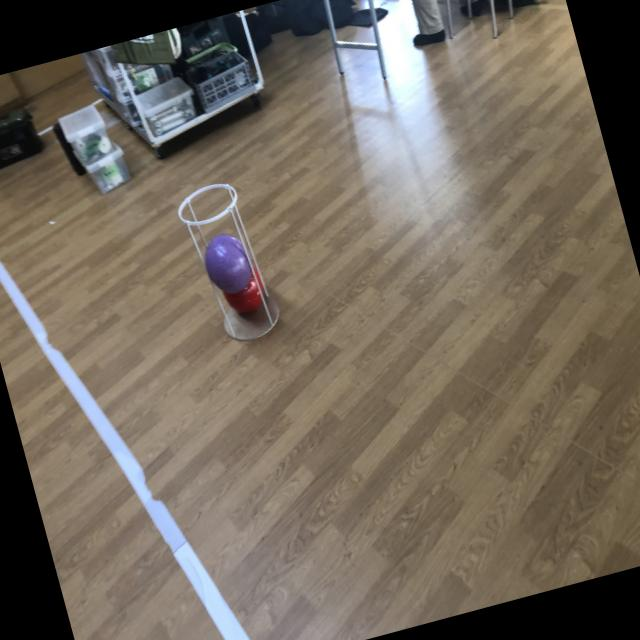purple_ball: (199, 229, 257, 294)
red_ball: (218, 267, 270, 319)
